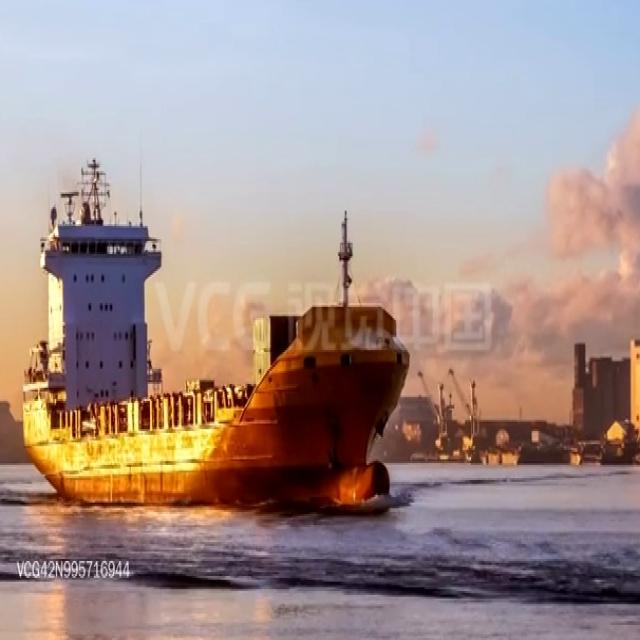cargoship: (19, 158, 409, 519)
